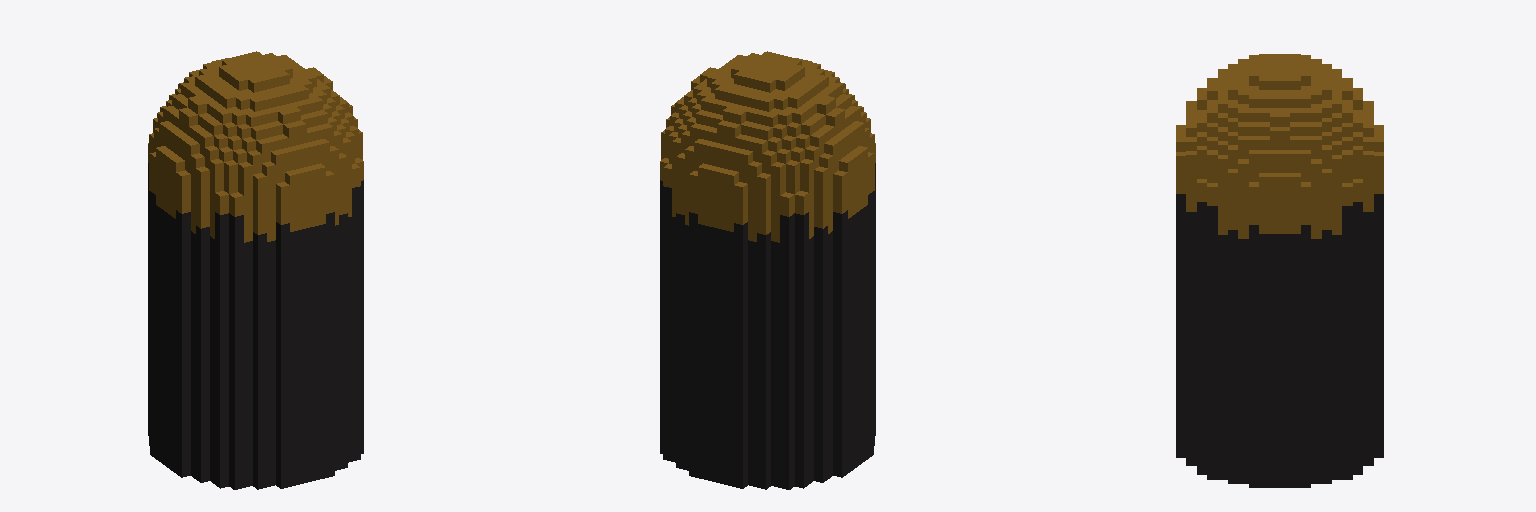
3 views of the same model, side by side, from view 1: azimuth 30°, elevation 25°; view 2: azimuth 150°, elevation 25°; view 3: azimuth 270°, elevation 25° (orthographic).
Visible parts, largest first — view 1: object 1; view 2: object 1; view 3: object 1.
Boxes of the visible parts, x1=… form: object 1: x1=148, y1=51, x2=363, y2=489; object 1: x1=660, y1=51, x2=875, y2=489; object 1: x1=1176, y1=54, x2=1383, y2=487.
Bounding box in the file's own units: 2 × 4 × 2.
Materials: 1 (1 with a texture image).